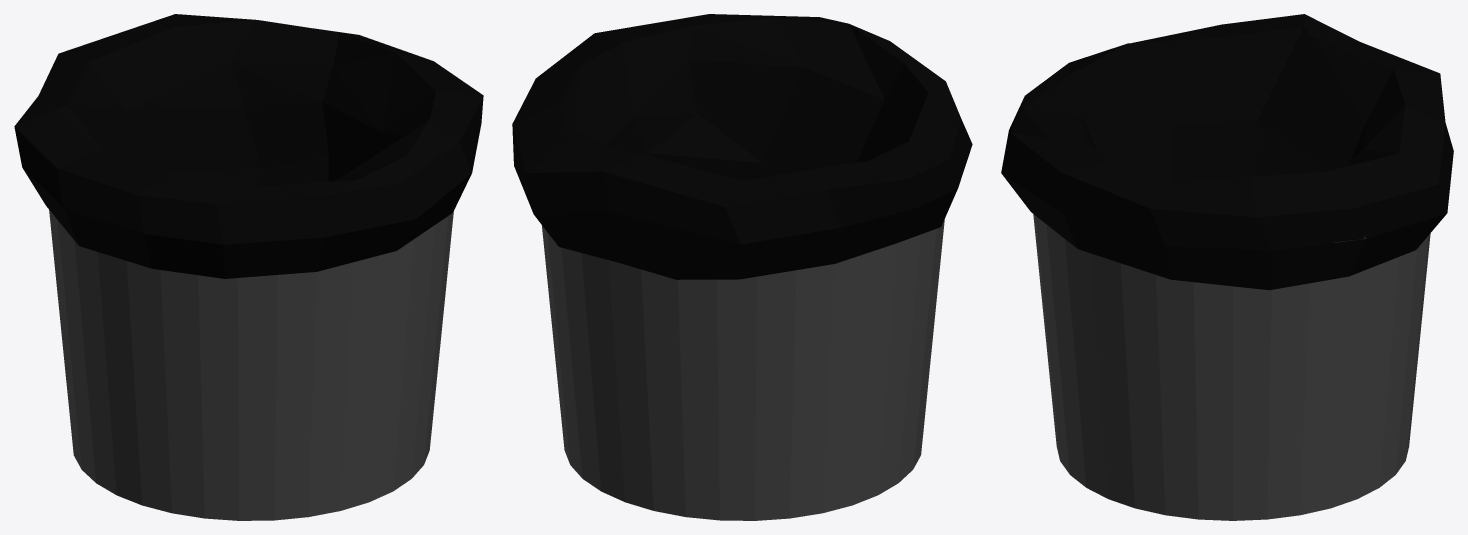
Rendered from TrashCan1.fbx.
The picture shows the model from 3 angles, left to right: view 1: azimuth 30°, elevation 25°; view 2: azimuth 150°, elevation 25°; view 3: azimuth 270°, elevation 25°; orthographic projection.
Parts seen in each view (by area): view 1: TrashCan1; view 2: TrashCan1; view 3: TrashCan1.
Part boxes in pixels (box(x1,y1,x2,y2)): TrashCan1: box(14, 14, 483, 520); TrashCan1: box(512, 14, 972, 520); TrashCan1: box(1001, 14, 1453, 520).
Bounding box in the file's own units: 2.56 × 2.17 × 2.57.
